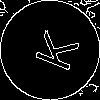K: (25, 25, 80, 74)
